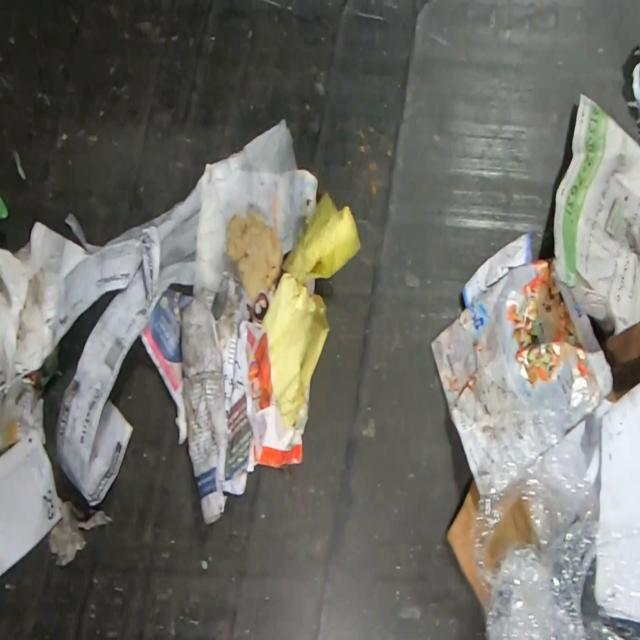cardboard: (444, 479, 482, 612), (606, 320, 640, 403)
soft_plastic: (469, 398, 638, 638)
